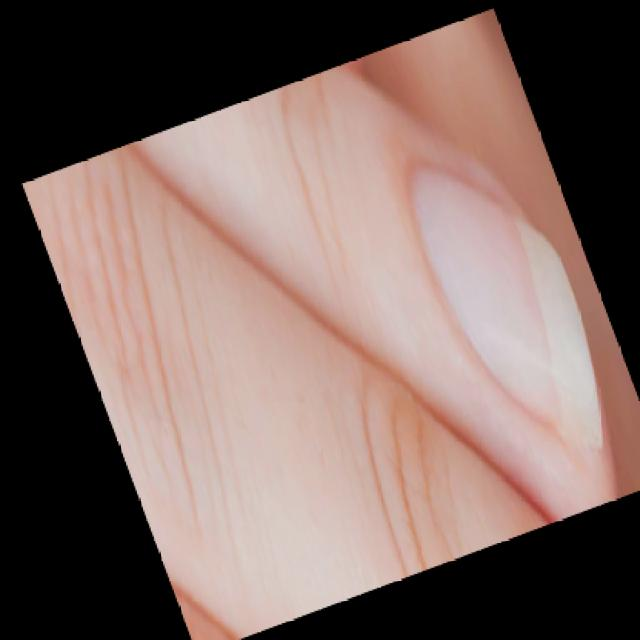Nail: (415, 170, 603, 444)
